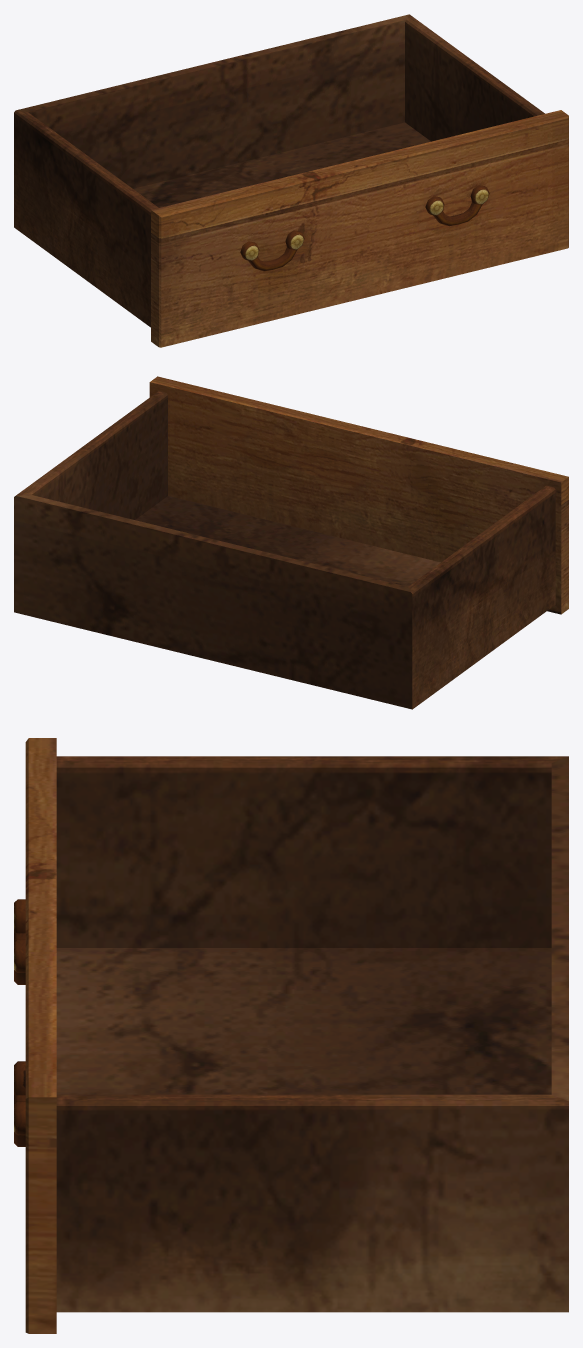
File: cabinetDrawer03_a.FBX
3 renders of one model, top to bottom at view 1: azimuth 30°, elevation 25°; view 2: azimuth 150°, elevation 25°; view 3: azimuth 270°, elevation 25°, orthographic. The views are drawn at different scales.
Visible parts, largest first — view 1: SM_CabinetDrawer03; view 2: SM_CabinetDrawer03; view 3: SM_CabinetDrawer03.
Boxes of the visible parts, box(x1,y1,x2,y2) form: SM_CabinetDrawer03: box(14, 14, 568, 347); SM_CabinetDrawer03: box(14, 376, 568, 709); SM_CabinetDrawer03: box(14, 738, 568, 1333).
Size of the model in its own units: 66.57 by 20.43 by 43.46.
Materials: 1 (1 with a texture image).
